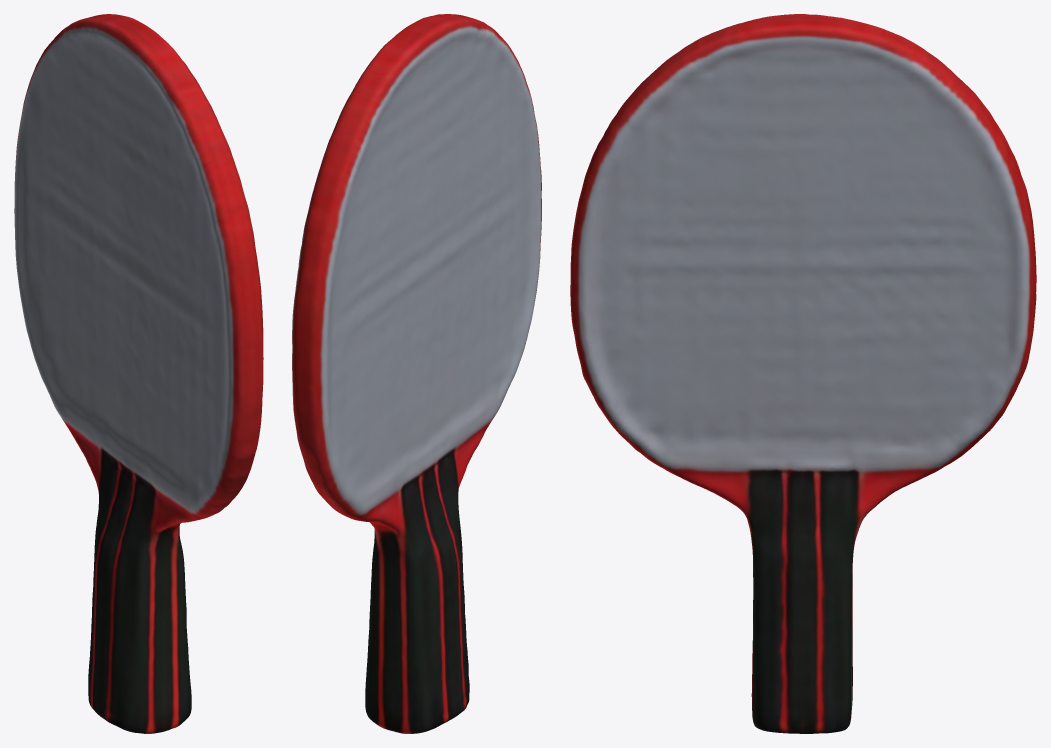
The model's file is Ai_tabletenistok.glb.
3 renders of one model, left to right at view 1: azimuth 30°, elevation 25°; view 2: azimuth 150°, elevation 25°; view 3: azimuth 270°, elevation 25°, orthographic. The views are drawn at different scales.
Parts seen in each view (by area): view 1: high_poly; view 2: high_poly; view 3: high_poly.
Part boxes in pixels (left/top/right/bottom): high_poly: left=14, top=14, right=263, bottom=733; high_poly: left=292, top=14, right=541, bottom=733; high_poly: left=570, top=14, right=1036, bottom=733.
Bounding box in the file's own units: 0.0376 × 0.2998 × 0.1801.
1 material, 1 textured.
